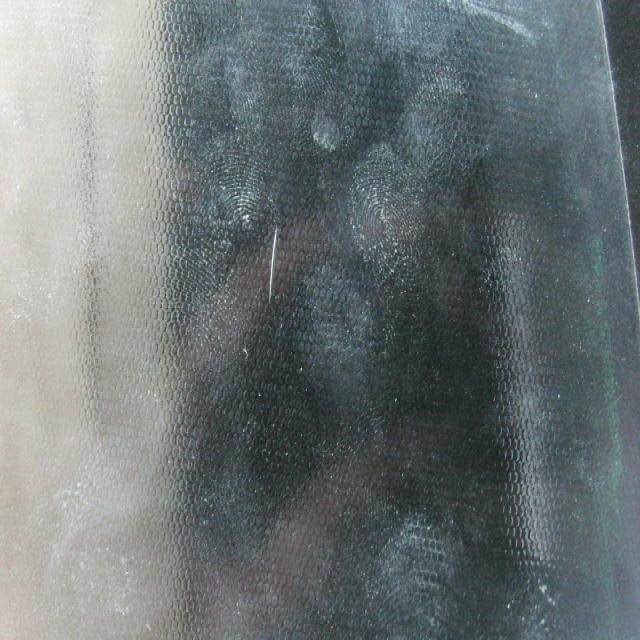scratch: (264, 213, 294, 315)
